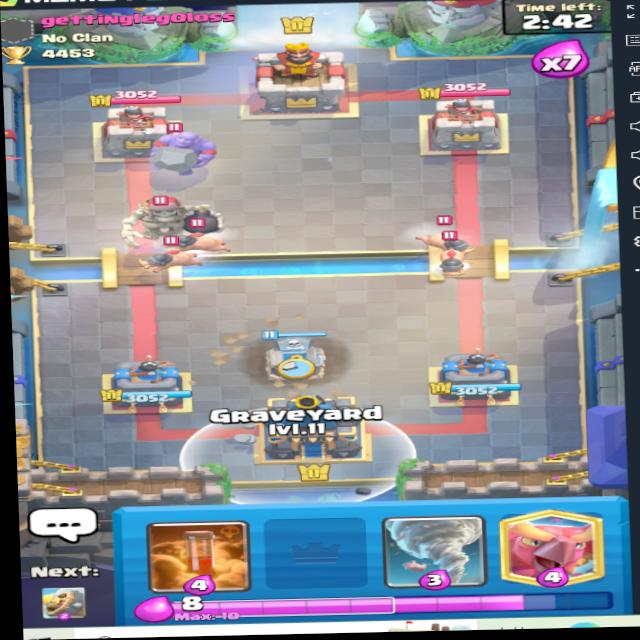bowler: (143, 117, 219, 176)
giant-skeleton: (118, 193, 226, 247)
royal-hogs: (140, 236, 207, 271), (418, 216, 478, 254), (163, 228, 230, 257), (424, 246, 475, 279)
